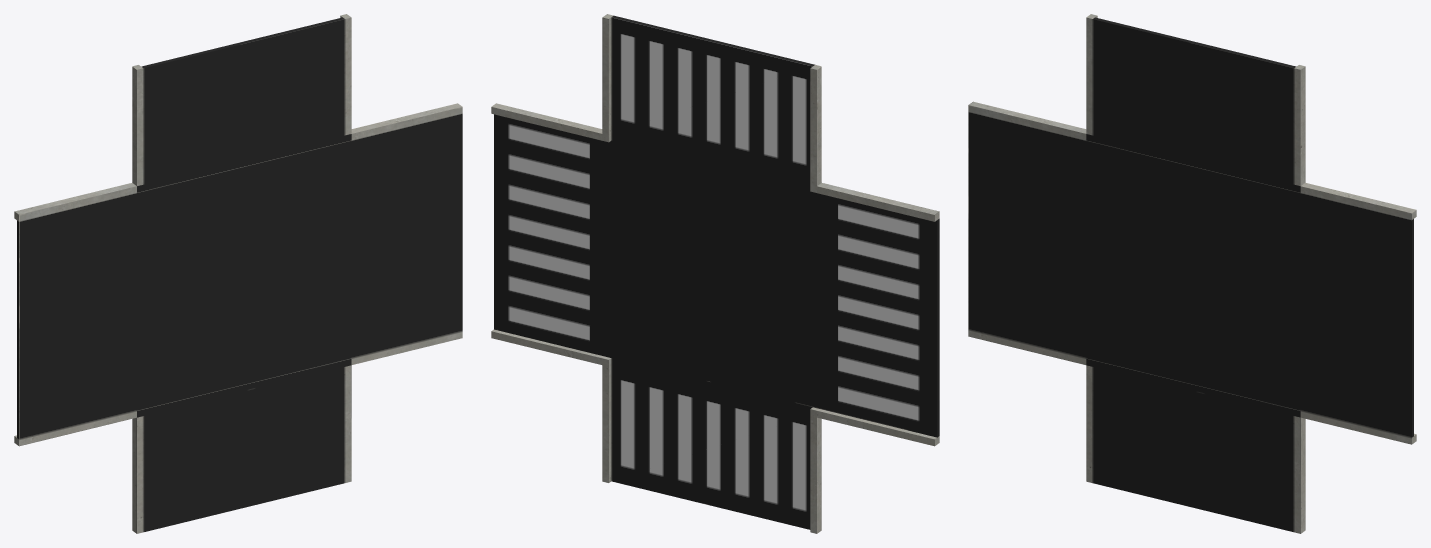
Rendered from road-cross.obj.
3 renders of one model, left to right at view 1: azimuth 30°, elevation 25°; view 2: azimuth 150°, elevation 25°; view 3: azimuth 330°, elevation 25°, orthographic.
Visible parts, largest first — view 1: road-cross_Plane.120; view 2: road-cross_Plane.120; view 3: road-cross_Plane.120.
Boxes of the visible parts, x1,y1,x2,y2 form: road-cross_Plane.120: (14, 14, 462, 533); road-cross_Plane.120: (491, 14, 939, 533); road-cross_Plane.120: (968, 14, 1416, 533).
Bounding box in the file's own units: 8 × 8 × 0.15.
